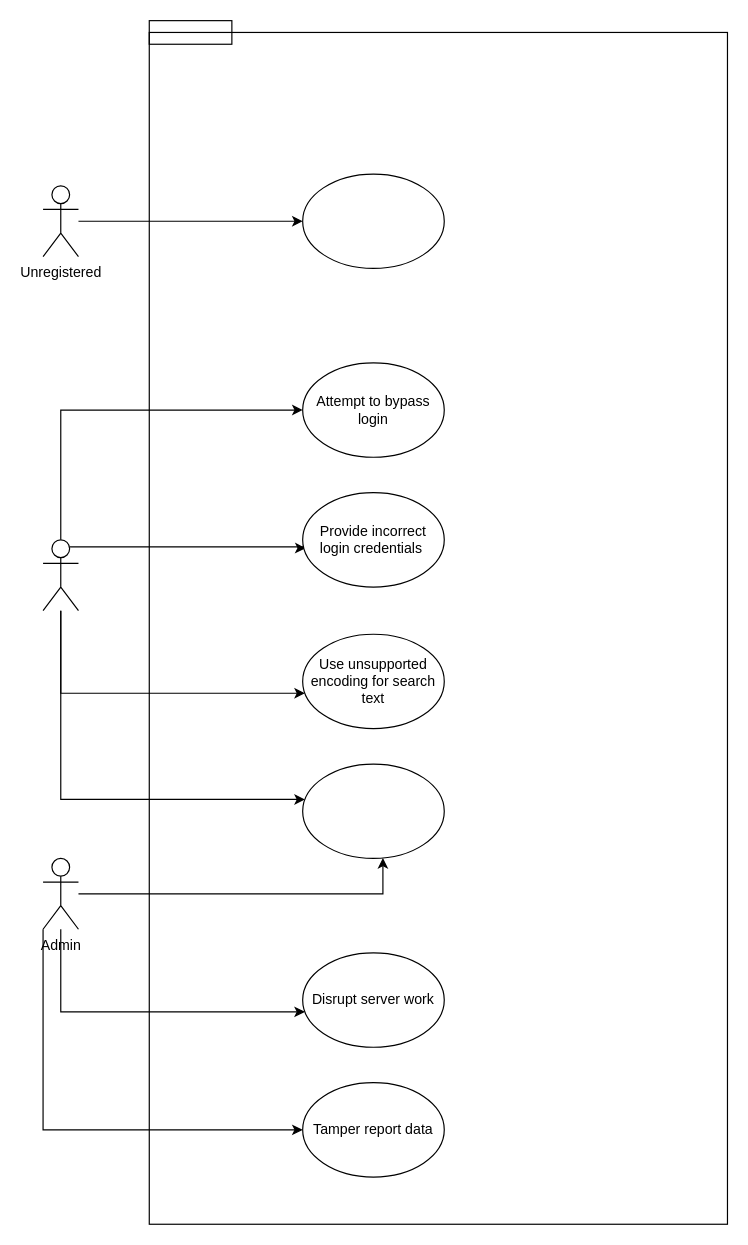
Some shapes in this 748 by 1245 pixel diagram are drawn without their labels. The centre of each missing label's shape, as x and y in pixels:
"Attempt to steal user credentials" belongs at pixel 372 810.
"Bookhub" belongs at pixel 190 31.
"Reader" belongs at pixel 60 575.
"Try to register with invalid credentials" belongs at pixel 372 220.
